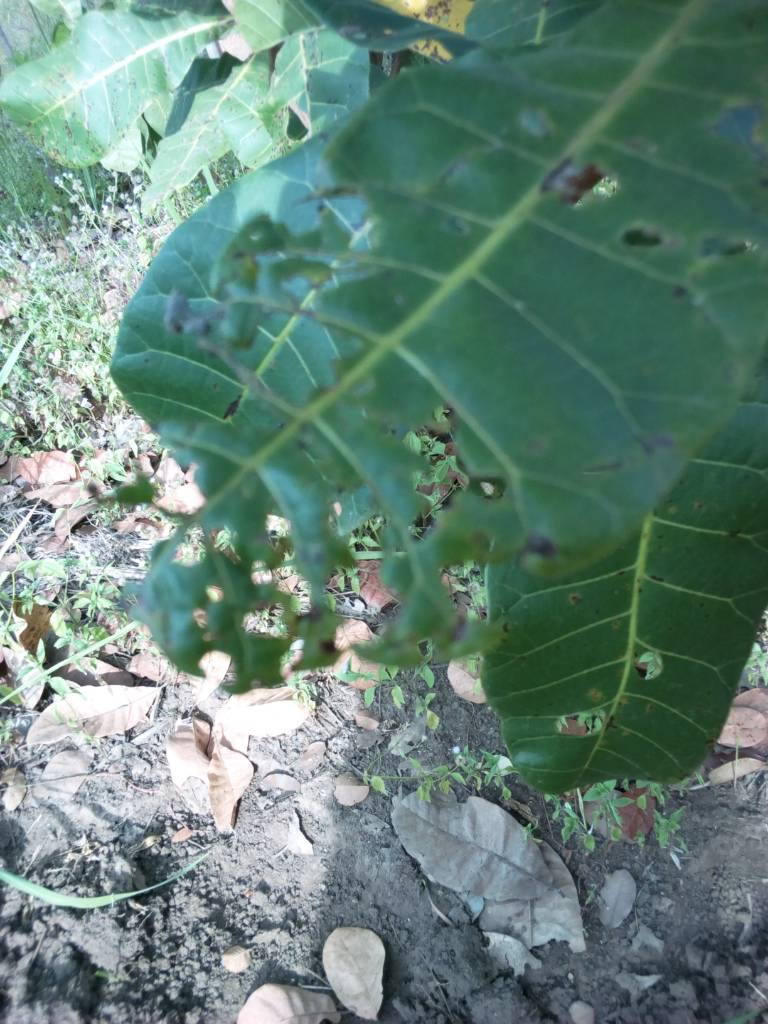Anoplonemis curvipes: (122, 5, 765, 675)
